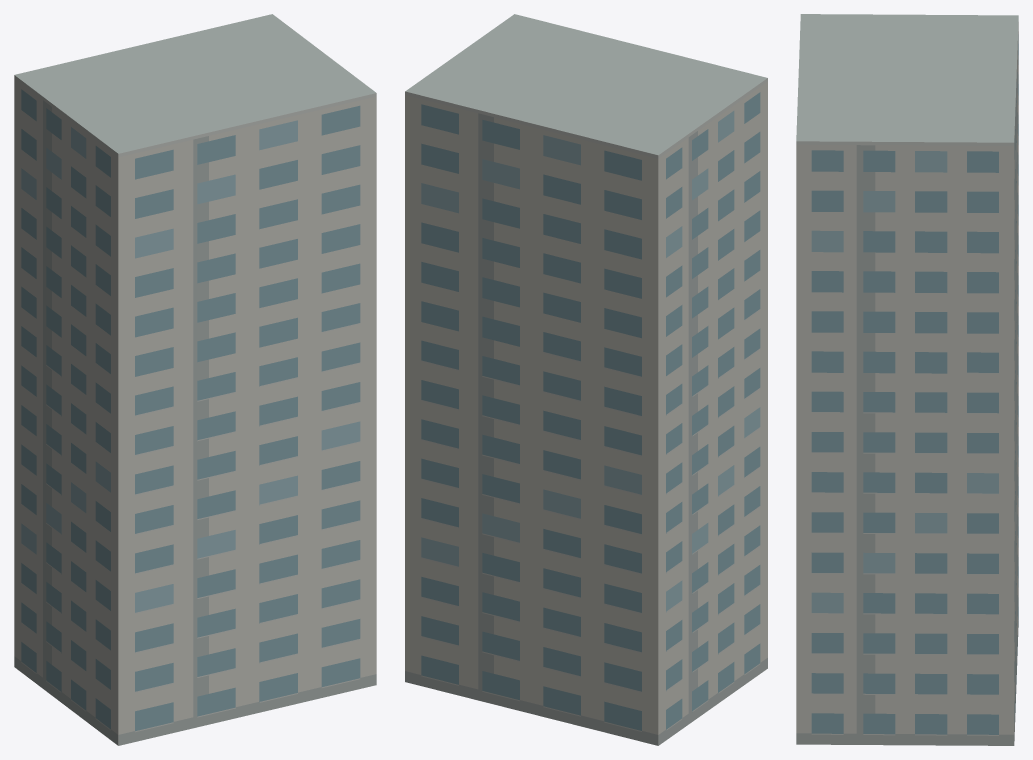
Rendered from residential-6a9e9d27-9c3a-4093-8716-6feb177a2f7d.glb.
The picture shows the model from 3 angles, left to right: view 1: azimuth 30°, elevation 25°; view 2: azimuth 150°, elevation 25°; view 3: azimuth 270°, elevation 25°; orthographic projection. The views are drawn at different scales.
Parts seen in each view (by area): view 1: residential-6a9e9d27-9c3a-4093-8716-6feb177a2f7d.tmp; view 2: residential-6a9e9d27-9c3a-4093-8716-6feb177a2f7d.tmp; view 3: residential-6a9e9d27-9c3a-4093-8716-6feb177a2f7d.tmp.
Boxes of the visible parts, x1,y1,x2,y2 form: residential-6a9e9d27-9c3a-4093-8716-6feb177a2f7d.tmp: (14,14,376,745); residential-6a9e9d27-9c3a-4093-8716-6feb177a2f7d.tmp: (405,14,767,745); residential-6a9e9d27-9c3a-4093-8716-6feb177a2f7d.tmp: (796,14,1018,745).
Size of the model in its own units: 19.69 by 43 by 14.38.
